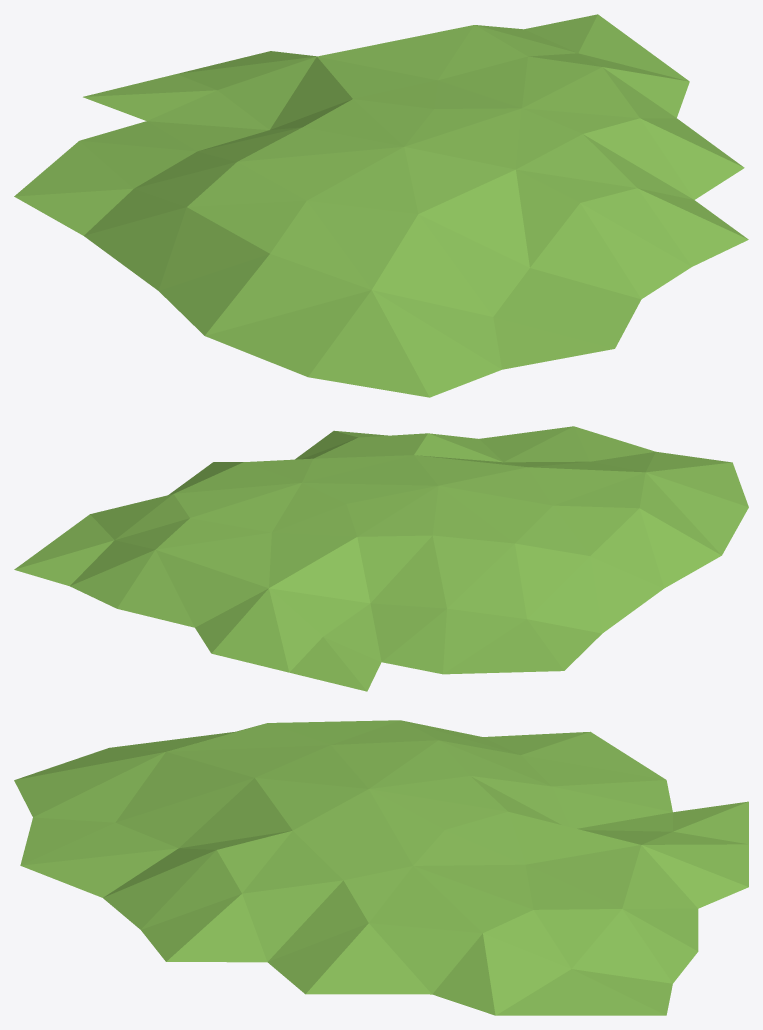
The model's file is MT_Mountain_S_b_16_LOD.fbx.
The picture shows the model from 3 angles, top to bottom: view 1: azimuth 30°, elevation 25°; view 2: azimuth 150°, elevation 25°; view 3: azimuth 270°, elevation 25°; orthographic projection. The views are drawn at different scales.
Visible parts, largest first — view 1: MT_Mountain_S_b_16_LOD0; view 2: MT_Mountain_S_b_16_LOD0; view 3: MT_Mountain_S_b_16_LOD0.
Boxes of the visible parts, x1,y1,x2,y2 form: MT_Mountain_S_b_16_LOD0: (14, 14, 748, 397); MT_Mountain_S_b_16_LOD0: (14, 426, 748, 691); MT_Mountain_S_b_16_LOD0: (14, 720, 748, 1015).
Size of what is drawn, in the model's own units: 2070 by 225 by 2266.
